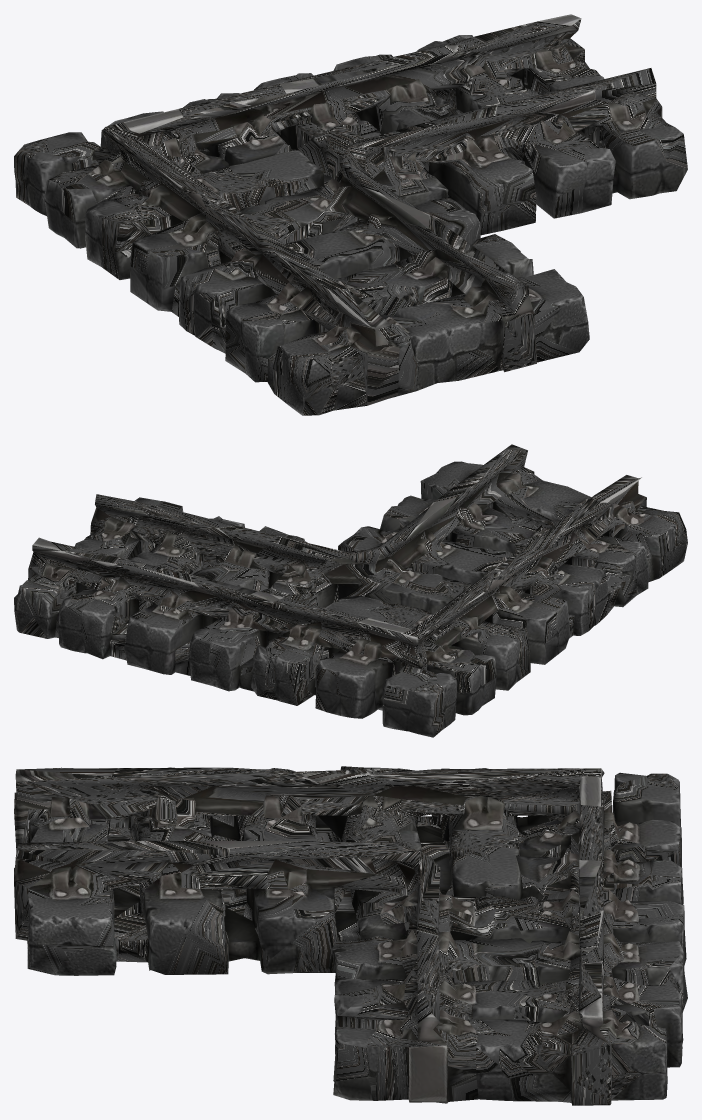
The model's file is railroad_track_section_01.glb.
3 renders of one model, top to bottom at view 1: azimuth 30°, elevation 25°; view 2: azimuth 150°, elevation 25°; view 3: azimuth 270°, elevation 25°, orthographic. The views are drawn at different scales.
Visible parts, largest first — view 1: tripo_node_01187d12-d4d7-467f-b8a0-c27e58b742a6; view 2: tripo_node_01187d12-d4d7-467f-b8a0-c27e58b742a6; view 3: tripo_node_01187d12-d4d7-467f-b8a0-c27e58b742a6.
Boxes of the visible parts, bbox=[...] form: tripo_node_01187d12-d4d7-467f-b8a0-c27e58b742a6: bbox=[14, 14, 687, 415]; tripo_node_01187d12-d4d7-467f-b8a0-c27e58b742a6: bbox=[14, 444, 687, 737]; tripo_node_01187d12-d4d7-467f-b8a0-c27e58b742a6: bbox=[14, 766, 687, 1105].
Bounding box in the file's own units: 0.9782 × 0.1505 × 0.9849.
Materials: 1 (1 with a texture image).
